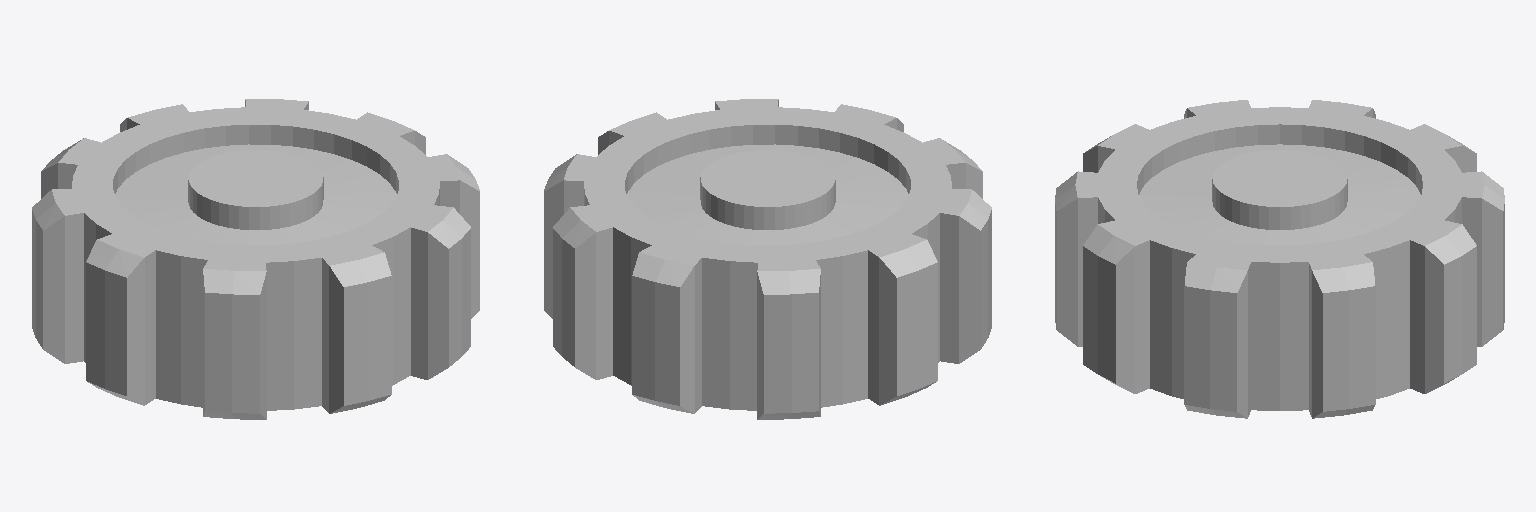
The model's file is small-gear.obj.
3 views of the same model, side by side, from view 1: azimuth 30°, elevation 25°; view 2: azimuth 150°, elevation 25°; view 3: azimuth 270°, elevation 25° (orthographic).
Parts seen in each view (by area): view 1: Gear.003; view 2: Gear.003; view 3: Gear.003.
Part boxes in pixels (x1,y1,x2,y2): Gear.003: (32, 99, 479, 419); Gear.003: (544, 99, 991, 419); Gear.003: (1055, 100, 1504, 418).
Bounding box in the file's own units: 2.16 × 0.8344 × 2.2.